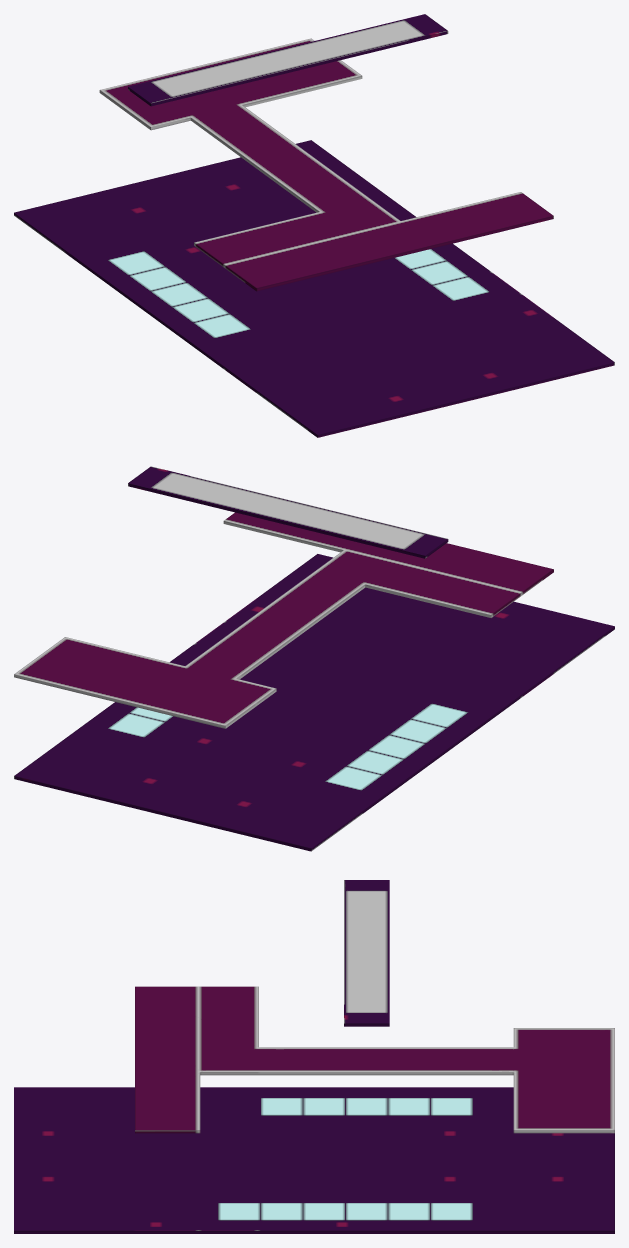
File: huecos.fbx
3 views of the same model, one above another, from view 1: azimuth 30°, elevation 25°; view 2: azimuth 150°, elevation 25°; view 3: azimuth 270°, elevation 25° (orthographic).
Visible parts, largest first — view 1: huecos.001; view 2: huecos.001; view 3: huecos.001.
Boxes of the visible parts, box(x1,y1,x2,y2) form: huecos.001: box(14, 14, 614, 437); huecos.001: box(14, 466, 614, 851); huecos.001: box(14, 880, 614, 1233).
Bounding box in the file's own units: 10.4 × 7.1 × 18.4.
Materials: 1 (1 with a texture image).
